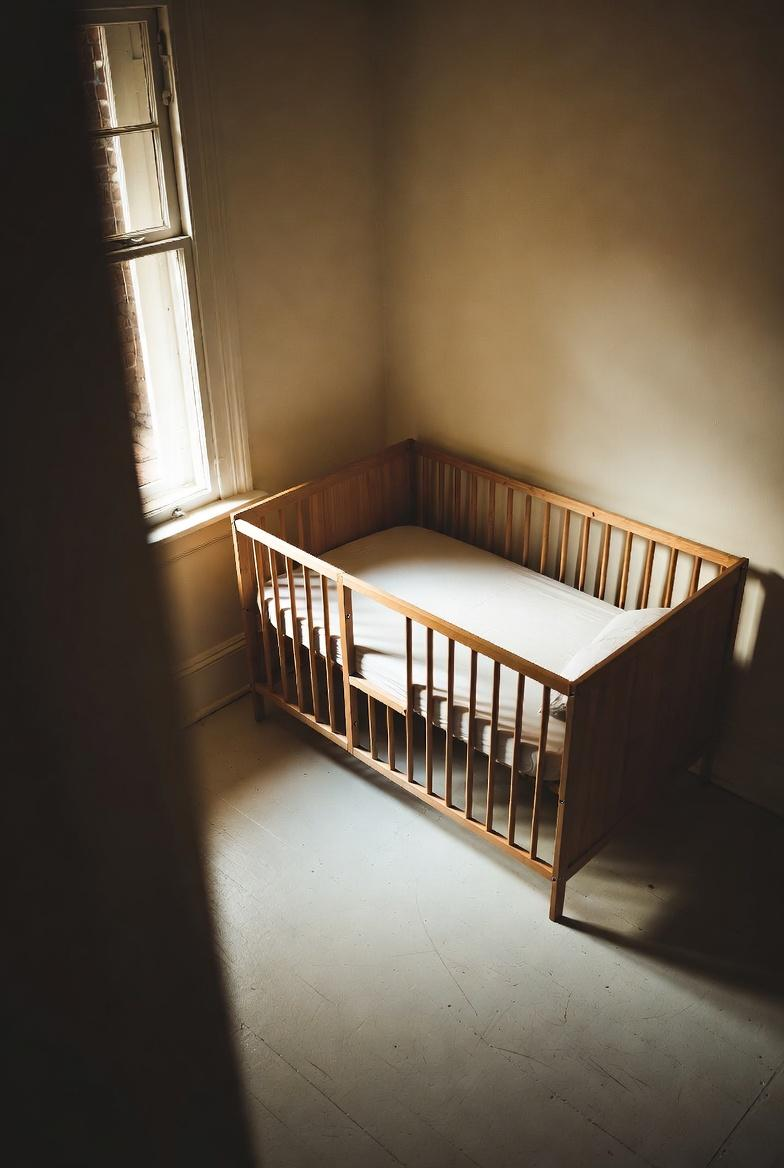crib: (183, 421, 770, 933)
